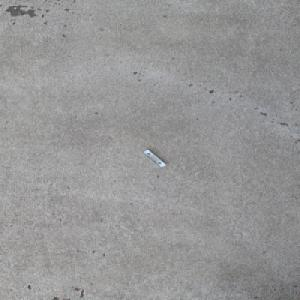ClampPart: (140, 148, 166, 167)
